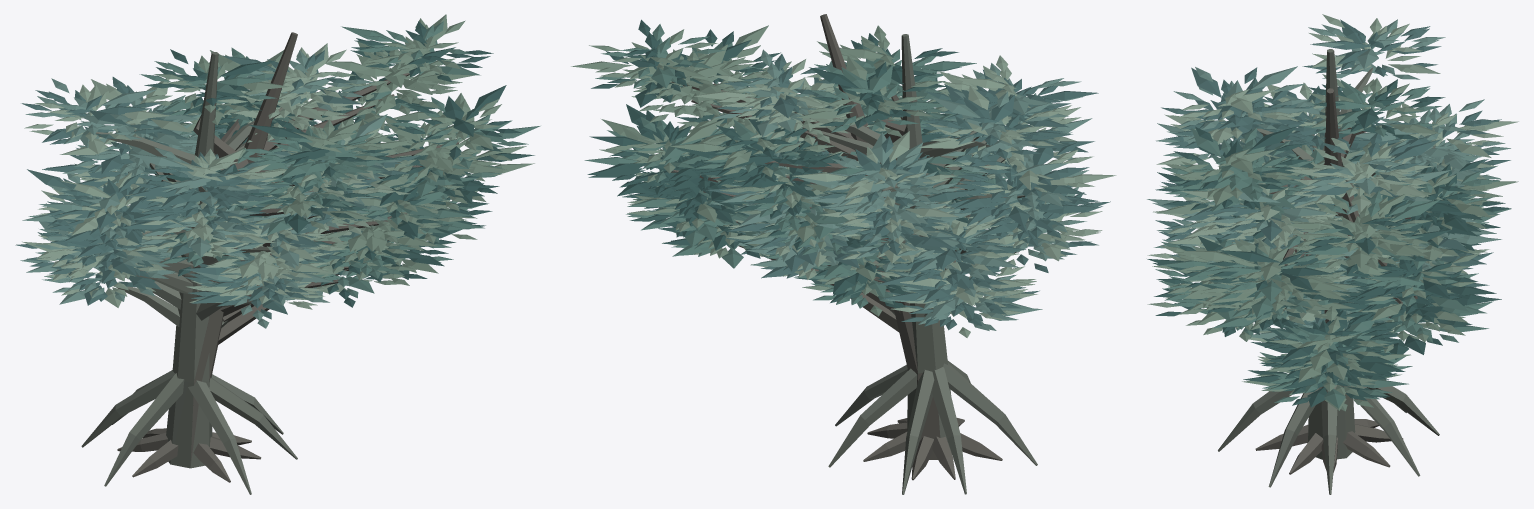
Rendered from coastal-trees.glb.
3 renders of one model, left to right at view 1: azimuth 30°, elevation 25°; view 2: azimuth 150°, elevation 25°; view 3: azimuth 270°, elevation 25°, orthographic. The views are drawn at different scales.
Visible parts, largest first — view 1: windpine-4_leaves, tidal-tree-4_leaves, windpine-4-distant_leaves, tidal-tree-4-distant_leaves, tidal-tree_wood, tidal-tree-2_leaves, windpine-3_leaves, windpine-2_leaves, tidal-tree-3_leaves, tidal-tree-4_wood, tidal-tree-2-distant_leaves, windpine-3-distant_leaves (+9 smaller); view 2: tidal-tree-4_leaves, windpine-4_leaves, tidal-tree-4-distant_leaves, windpine-4-distant_leaves, tidal-tree-2_leaves, tidal-tree_wood, tidal-tree-3_leaves, windpine-3_leaves, tidal-tree-2-distant_leaves, windpine-2_leaves, tidal-tree_leaves, tidal-tree-3-distant_leaves (+10 smaller); view 3: windpine-4_leaves, tidal-tree-4_leaves, windpine-4-distant_leaves, tidal-tree-4-distant_leaves, windpine-3_leaves, windpine-2_leaves, windpine-3-distant_leaves, tidal-tree_wood, tidal-tree-3_leaves, tidal-tree-3-distant_leaves, windpine-2-distant_leaves, windpine_leaves (+7 smaller).
Boxes of the visible parts, left/top/right/bottom form: windpine-4_leaves: left=139, top=18, right=528, bottom=239; tidal-tree-4_leaves: left=21, top=47, right=409, bottom=268; windpine-4-distant_leaves: left=158, top=14, right=540, bottom=237; tidal-tree-4-distant_leaves: left=22, top=43, right=422, bottom=266; tidal-tree_wood: left=81, top=234, right=297, bottom=494; tidal-tree-2_leaves: left=15, top=126, right=392, bottom=309; windpine-3_leaves: left=181, top=42, right=495, bottom=260; windpine-2_leaves: left=142, top=103, right=498, bottom=285; tidal-tree-3_leaves: left=41, top=71, right=376, bottom=286; tidal-tree-4_wood: left=96, top=51, right=283, bottom=463; tidal-tree-2-distant_leaves: left=22, top=145, right=410, bottom=301; windpine-3-distant_leaves: left=155, top=56, right=499, bottom=252; tidal-tree-4_leaves: left=711, top=49, right=1094, bottom=281; windpine-4_leaves: left=589, top=19, right=972, bottom=251; tidal-tree-4-distant_leaves: left=693, top=67, right=1116, bottom=271; windpine-4-distant_leaves: left=571, top=25, right=976, bottom=241; tidal-tree-2_leaves: left=725, top=105, right=1110, bottom=320; tidal-tree_wood: left=828, top=233, right=1037, bottom=494; tidal-tree-3_leaves: left=741, top=77, right=1073, bottom=302; windpine-3_leaves: left=622, top=49, right=956, bottom=269; tidal-tree-2-distant_leaves: left=727, top=93, right=1094, bottom=318; windpine-2_leaves: left=626, top=72, right=1007, bottom=295; tidal-tree_leaves: left=746, top=195, right=1091, bottom=337; tidal-tree-3-distant_leaves: left=745, top=73, right=1099, bottom=289; windpine-4_leaves: left=1153, top=74, right=1511, bottom=384; tidal-tree-4_leaves: left=1152, top=14, right=1510, bottom=324; windpine-4-distant_leaves: left=1147, top=79, right=1518, bottom=382; tidal-tree-4-distant_leaves: left=1147, top=19, right=1518, bottom=320; windpine-3_leaves: left=1175, top=139, right=1470, bottom=383; windpine-2_leaves: left=1147, top=161, right=1510, bottom=405; windpine-3-distant_leaves: left=1152, top=134, right=1481, bottom=380; tidal-tree_wood: left=1218, top=377, right=1439, bottom=494; tidal-tree-3_leaves: left=1175, top=83, right=1474, bottom=324; tidal-tree-3-distant_leaves: left=1153, top=78, right=1482, bottom=322; windpine-2-distant_leaves: left=1154, top=145, right=1493, bottom=408; windpine_leaves: left=1175, top=194, right=1488, bottom=411.
Bounding box in the file's own units: 12.3 × 9.75 × 7.98.
